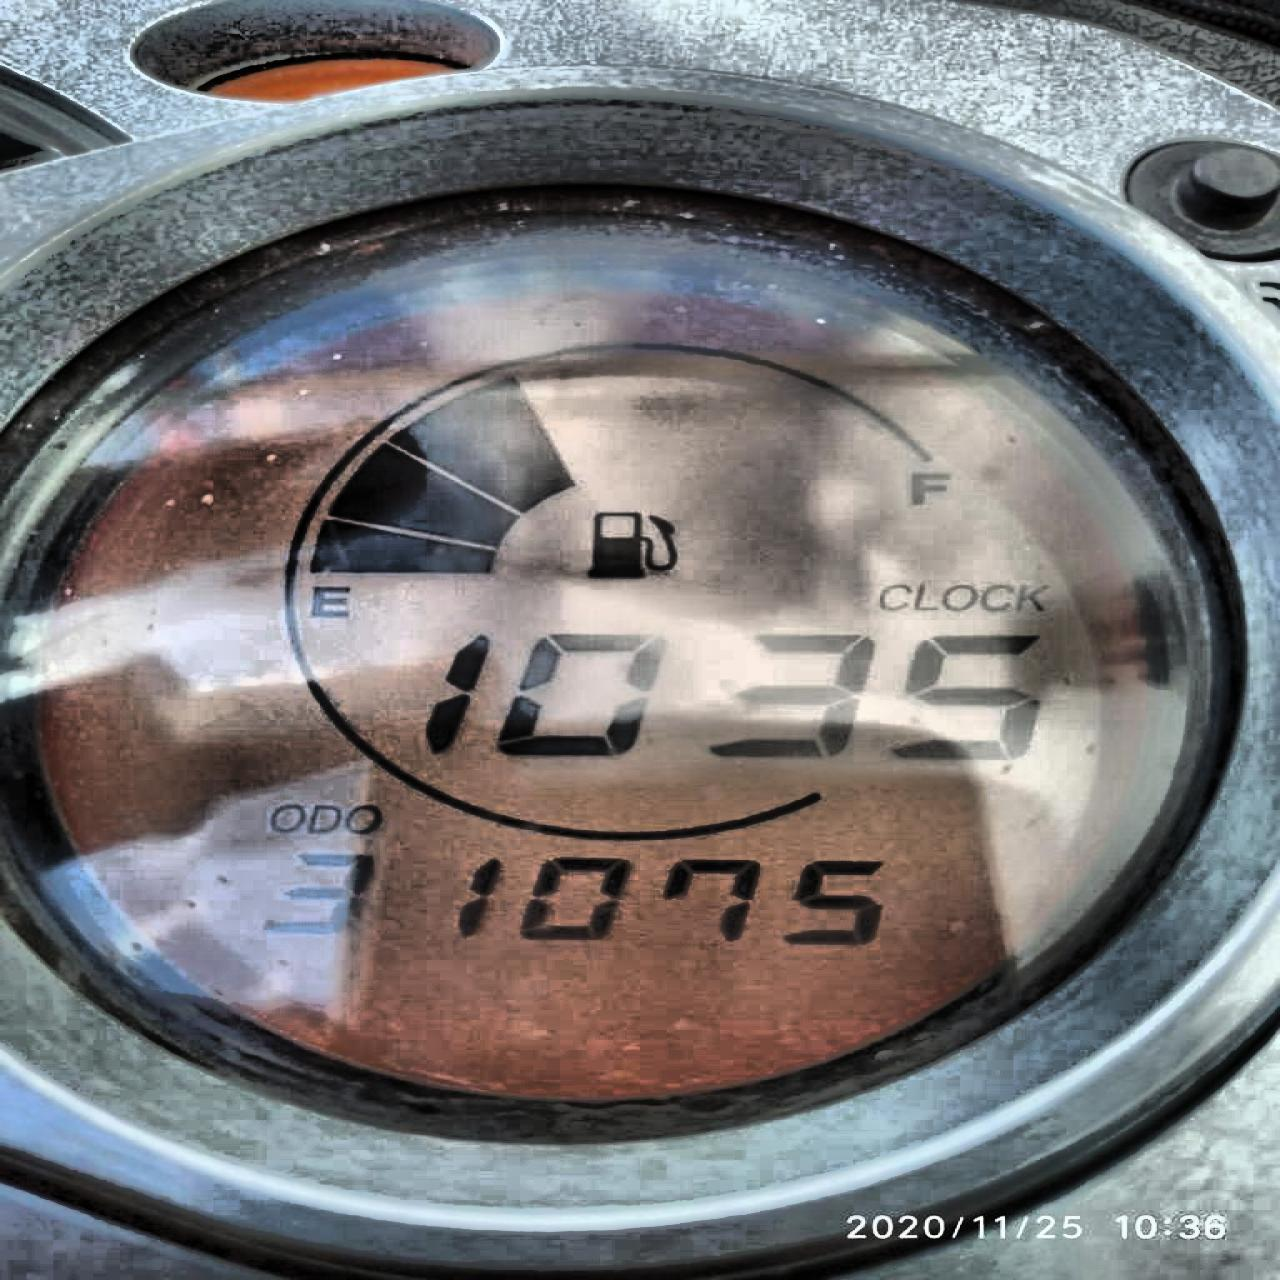0: (498, 627, 668, 756), (518, 856, 629, 940)
1: (422, 629, 491, 755), (457, 857, 498, 934)
3: (710, 629, 878, 762), (261, 851, 370, 935)
5: (888, 633, 1044, 763), (783, 860, 884, 944)
7: (660, 858, 758, 942)
X: (308, 583, 354, 619), (906, 469, 952, 505), (267, 803, 305, 833), (343, 805, 380, 835), (877, 583, 912, 612), (307, 804, 340, 835), (979, 583, 1014, 610), (941, 585, 976, 611), (1016, 584, 1048, 611), (913, 581, 939, 611)
odometer: (23, 223, 1232, 1111)
